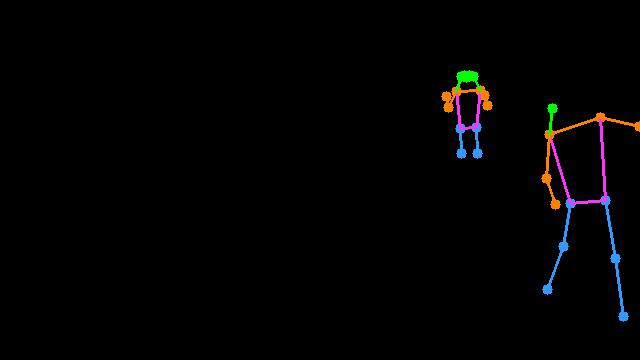normal: (528, 77, 640, 331), (437, 65, 496, 163)
